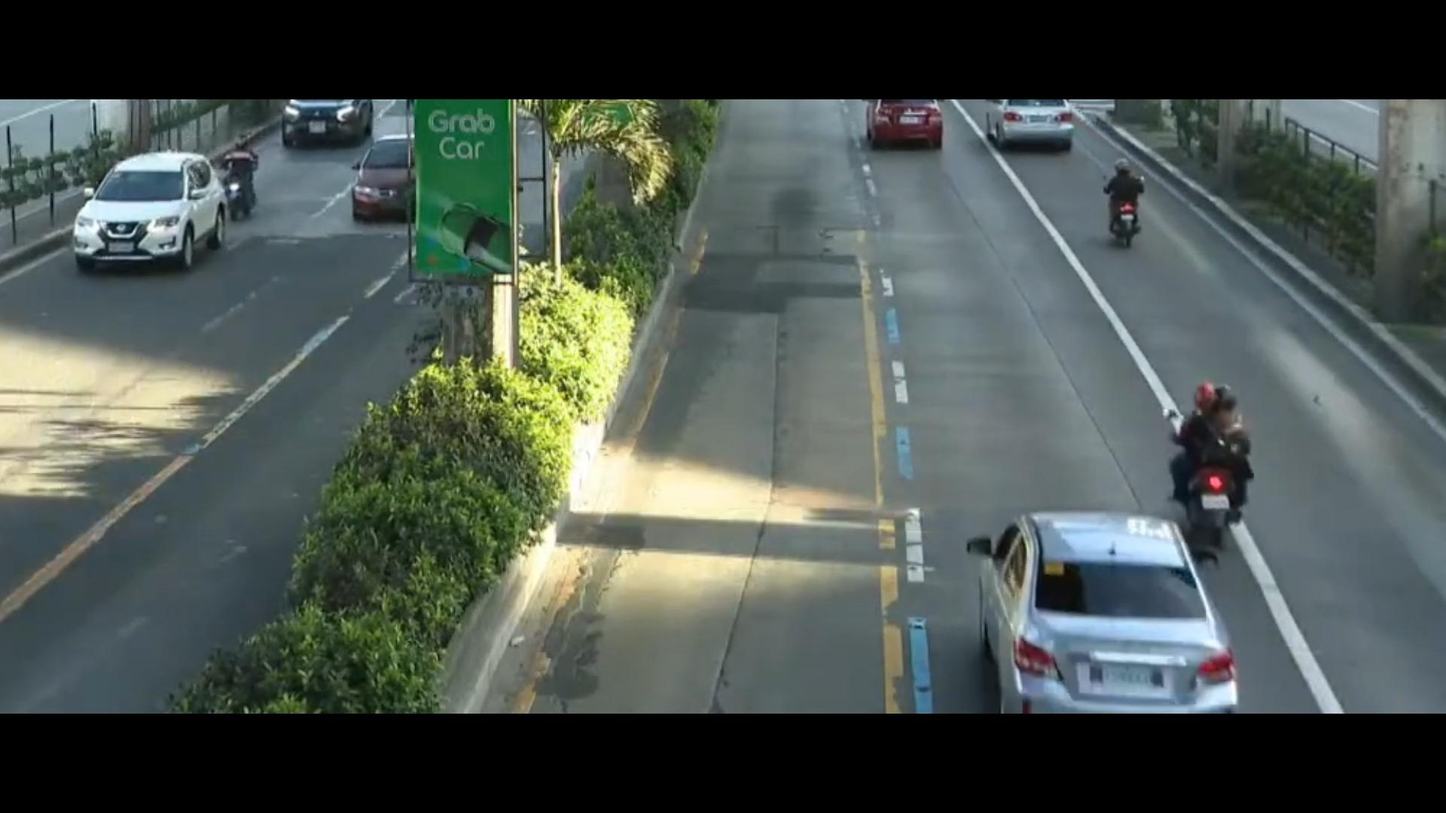Motorcycle: (1156, 360, 1295, 542), (1072, 137, 1177, 266), (213, 123, 268, 225)
SUV: (58, 139, 224, 283)
Sedan: (884, 473, 1269, 717), (971, 100, 1083, 157), (351, 135, 410, 221), (857, 100, 951, 145)
